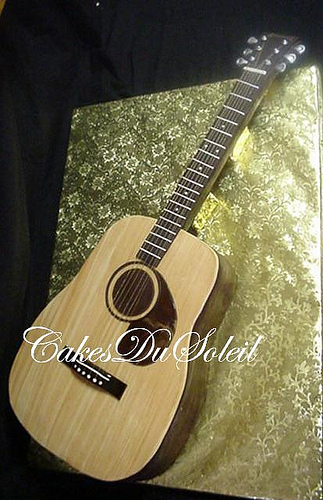guitar: (11, 22, 307, 483)
